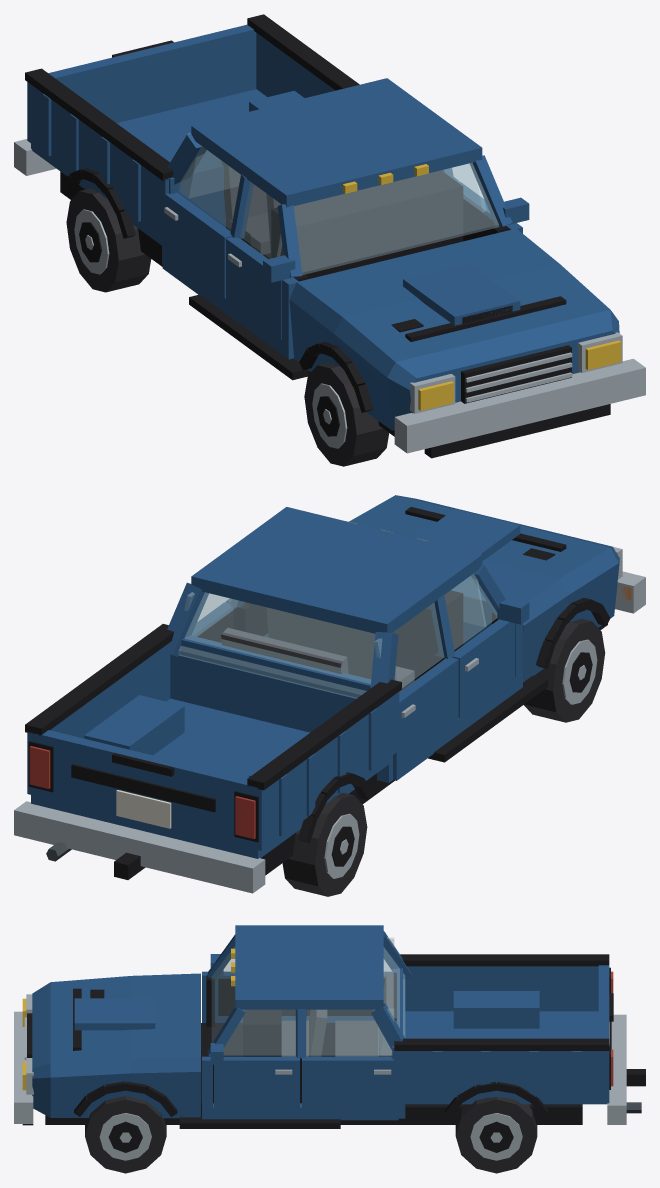
File: GV_Pickup_01.glb
The picture shows the model from 3 angles, top to bottom: view 1: azimuth 30°, elevation 25°; view 2: azimuth 150°, elevation 25°; view 3: azimuth 270°, elevation 25°; orthographic projection. The views are drawn at different scales.
Parts seen in each view (by area): view 1: GV_Pickup_01, Hood, Tailgate, Door_RR, Door_FR, Wheel_RR, Wheel_FR, Door_FL; view 2: GV_Pickup_01, Tailgate, Hood, Door_RR, Door_FR, Wheel_RR, Wheel_FR, Door_RL, Door_FL; view 3: GV_Pickup_01, Hood, Door_RL, Door_FL, Wheel_RL, Wheel_FL, Tailgate, Door_FR, Door_RR.
Part boxes in pixels (left/top/right/bottom): GV_Pickup_01: left=14, top=14, right=645, bottom=458; Hood: left=289, top=228, right=610, bottom=384; Tailgate: left=48, top=24, right=256, bottom=123; Door_RR: left=162, top=133, right=240, bottom=297; Door_FR: left=226, top=182, right=295, bottom=338; Wheel_RR: left=66, top=188, right=151, bottom=292; Wheel_FR: left=304, top=363, right=389, bottom=466; Door_FL: left=445, top=164, right=529, bottom=241; GV_Pickup_01: left=14, top=495, right=645, bottom=893; Tailgate: left=28, top=730, right=258, bottom=850; Hood: left=349, top=495, right=618, bottom=631; Door_RR: left=374, top=603, right=458, bottom=764; Door_FR: left=444, top=574, right=529, bottom=717; Wheel_RR: left=282, top=793, right=367, bottom=896; Wheel_FR: left=524, top=619, right=605, bottom=722; Door_RL: left=184, top=592, right=237, bottom=642; Door_FL: left=226, top=598, right=268, bottom=637; GV_Pickup_01: left=14, top=925, right=645, bottom=1128; Hood: left=50, top=973, right=200, bottom=1083; Door_RL: left=302, top=1009, right=398, bottom=1107; Door_FL: left=210, top=1010, right=299, bottom=1107; Wheel_RL: left=455, top=1097, right=537, bottom=1173; Wheel_FL: left=85, top=1096, right=166, bottom=1173; Tailgate: left=598, top=965, right=613, bottom=1089; Door_FR: left=210, top=954, right=295, bottom=1022; Door_RR: left=306, top=937, right=393, bottom=1022.
Size of the model in its own units: 2.16 by 1.68 by 5.88.
2 materials, 2 textured.
